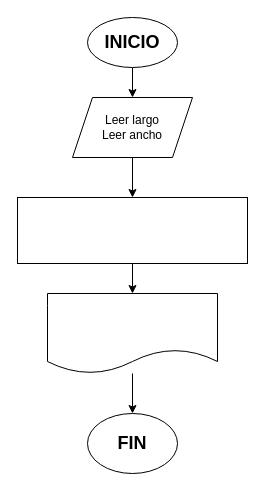
The diagram is 265 pixels wide and 491 high, and some of its shapes have lost their labels. The box of each missing label's shape, as (x1, y1, x2, y2) in pixels:
areaTerreno = largo * ancho precioTerreno = areaTerreno * 750: (16, 196, 248, 264)
imprimir areaTerreno imprimir precioTerreno: (46, 292, 218, 374)
